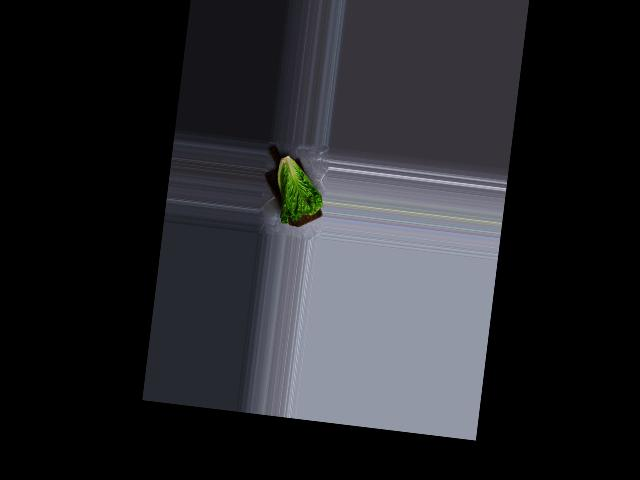lettuce: (264, 151, 327, 227)
